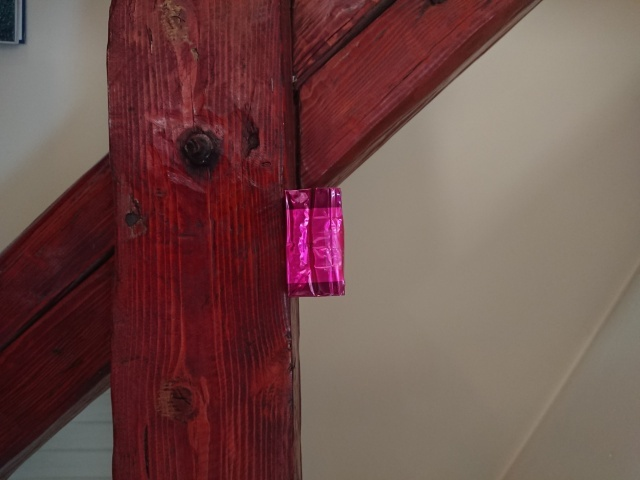Barcaffe Classic Original 225g: (280, 184, 348, 300)
